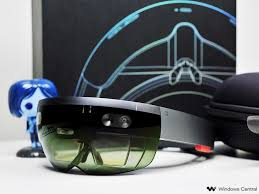hololens: (35, 96, 215, 176)
